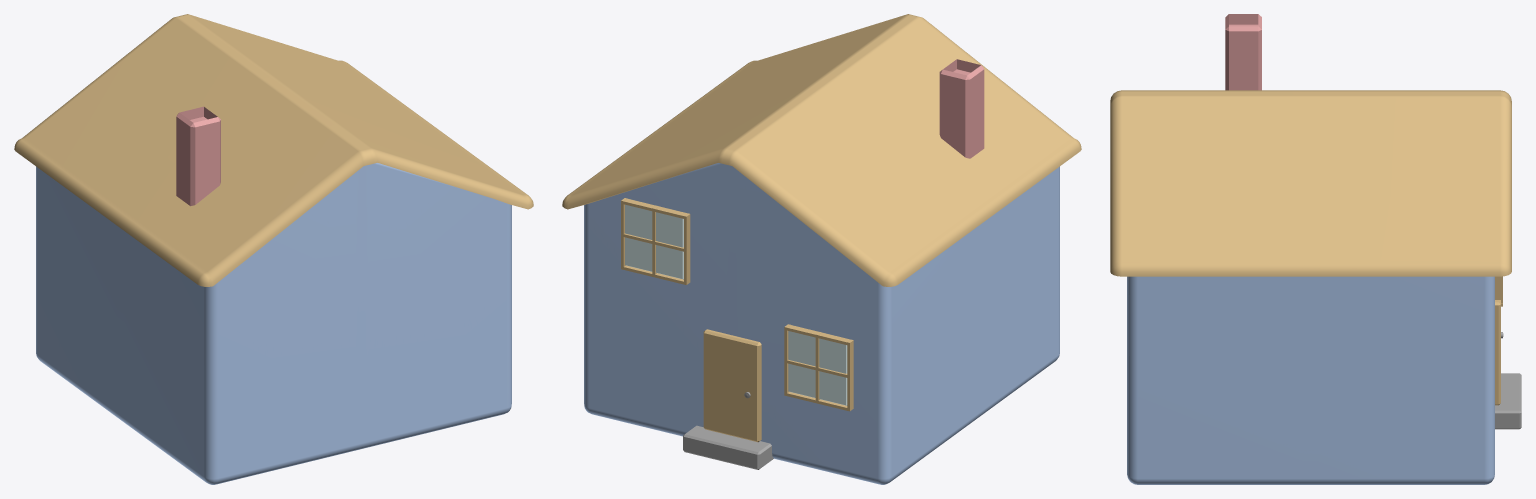
Rendered from HouseAsset.fbx.
3 renders of one model, left to right at view 1: azimuth 30°, elevation 25°; view 2: azimuth 150°, elevation 25°; view 3: azimuth 270°, elevation 25°, orthographic. The views are drawn at different scales.
Visible parts, largest first — view 1: House, Roof, chimney1; view 2: House, Roof, Door, Window, Window1, chimney1, Step; view 3: House, Roof, chimney1, Step, Door.
Boxes of the visible parts, <box> form: House: <box>36,163,511,484</box>; Roof: <box>14,14,533,286</box>; chimney1: <box>176,106,220,206</box>; House: <box>584,163,1059,484</box>; Roof: <box>562,14,1081,286</box>; Door: <box>703,329,761,442</box>; Window: <box>784,324,853,411</box>; Window1: <box>621,198,690,284</box>; chimney1: <box>939,59,984,158</box>; Step: <box>683,425,773,469</box>; House: <box>1127,276,1494,484</box>; Roof: <box>1110,90,1511,276</box>; chimney1: <box>1225,14,1261,90</box>; Step: <box>1495,373,1521,429</box>; Door: <box>1495,300,1500,405</box>.
Bounding box in the file's own units: 10.92 × 10.07 × 11.18.
